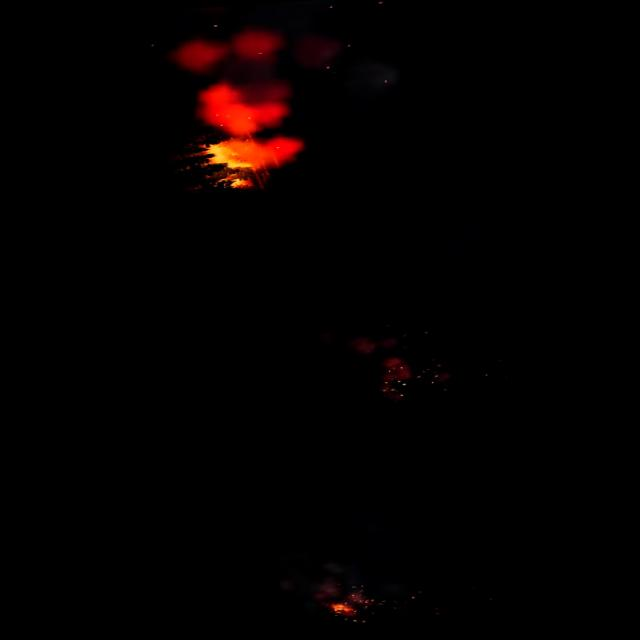fire: (197, 132, 305, 192), (322, 591, 374, 621), (376, 358, 412, 401)
smoke: (164, 0, 351, 150), (273, 540, 413, 610)
